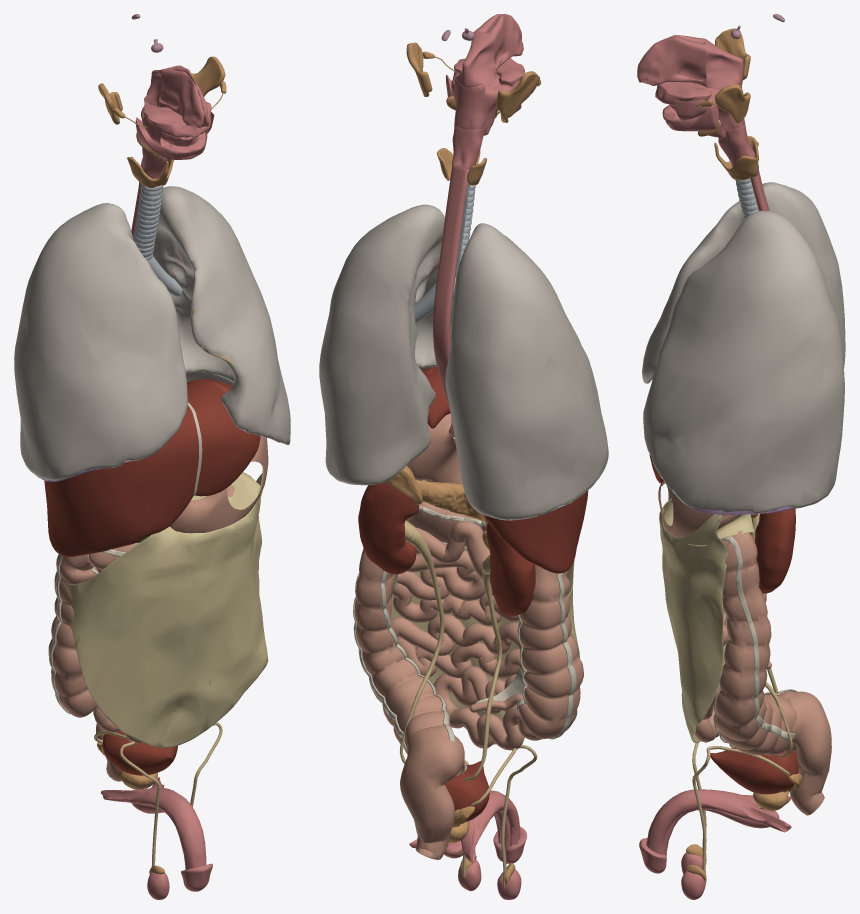
File: organs.glb
3 renders of one model, left to right at view 1: azimuth 30°, elevation 25°; view 2: azimuth 150°, elevation 25°; view 3: azimuth 270°, elevation 25°, orthographic. The views are drawn at different scales.
Parts seen in each view (by area): view 1: o73, o30, o51, o13, o15, o90, o28, o60, o115, o110, o57, o70 (+4 smaller); view 2: o73, o37, o13, o17, o88, o51, o38, o63, o39, o90, o65, o15 (+19 smaller); view 3: o73, o30, o17, o88, o15, o60, o38, o115, o28, o56, o61, o90 (+13 smaller).
Boxes of the visible parts, x1,y1,x2,y2 form: o73: (14,186,290,480); o30: (65,468,268,747); o51: (44,379,260,556); o13: (48,554,97,717); o15: (101,777,206,869); o90: (170,436,268,533); o28: (135,101,211,159); o60: (159,65,209,128); o115: (102,731,177,775); o110: (133,184,163,260); o57: (227,472,262,532); o70: (191,56,225,96); o73: (319,204,608,520); o37: (391,527,542,750); o13: (518,564,583,738); o17: (354,548,464,775); o88: (400,727,464,859); o51: (421,366,588,573); o38: (358,482,418,574); o63: (433,165,469,437); o39: (486,522,535,616); o90: (407,413,462,483); o65: (451,71,520,129); o15: (409,790,520,862); o73: (642,182,845,513); o30: (659,489,728,743); o17: (715,530,796,755); o88: (787,691,831,815); o15: (646,789,791,854); o60: (637,35,706,86); o38: (755,508,795,593); o115: (710,748,797,794); o28: (655,82,718,131); o56: (721,536,795,739); o61: (705,39,743,89); o90: (658,481,740,537).
Bounding box in the file's own units: 26.33 × 89.31 × 19.26.
